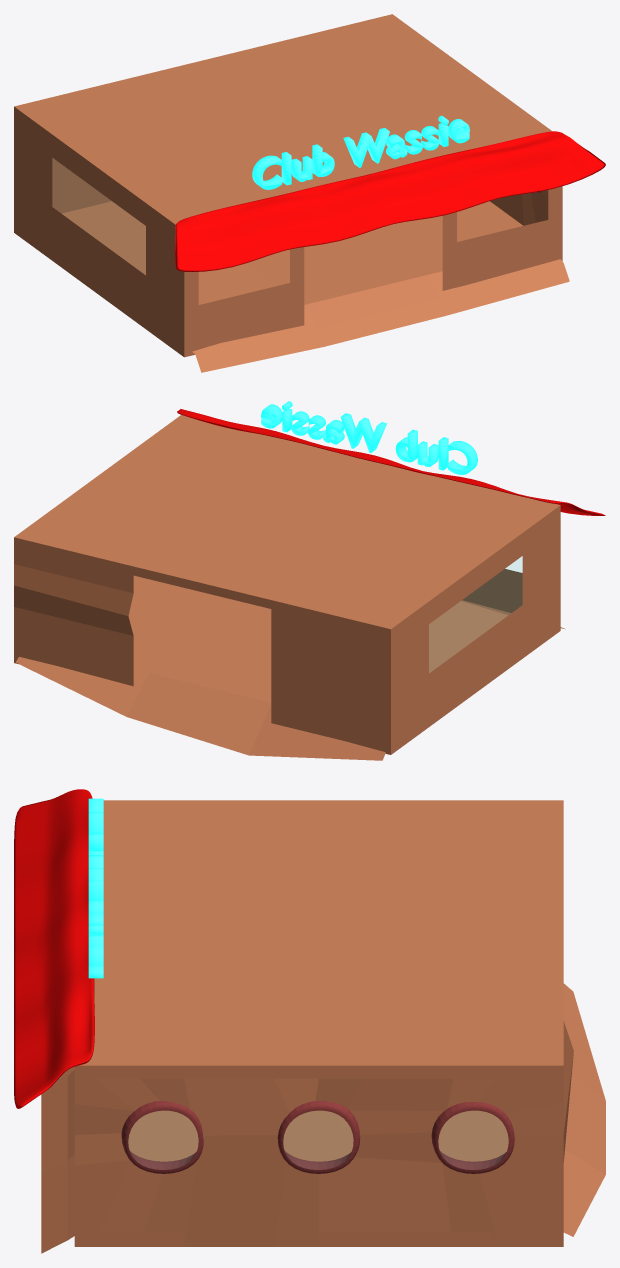
The model's file is house.glb.
3 renders of one model, top to bottom at view 1: azimuth 30°, elevation 25°; view 2: azimuth 150°, elevation 25°; view 3: azimuth 270°, elevation 25°, orthographic. The views are drawn at different scales.
Parts seen in each view (by area): view 1: Cube, Plane.002, Plane.001, Text; view 2: Cube, Plane.002, Text, Plane.001; view 3: Cube, Plane.001, Plane.002, Cube.001, Cube.003, Cube.002, Text.
Part boxes in pixels (<box>): Cube: <box>14,14,562,357</box>; Plane.002: <box>62,201,569,372</box>; Plane.001: <box>175,131,605,271</box>; Text: <box>252,115,469,189</box>; Cube: <box>14,415,560,754</box>; Plane.002: <box>15,575,565,760</box>; Text: <box>261,401,477,474</box>; Plane.001: <box>177,409,605,515</box>; Cube: <box>74,800,573,1246</box>; Plane.001: <box>14,789,94,1108</box>; Plane.002: <box>41,983,605,1253</box>; Cube.001: <box>277,1101,360,1173</box>; Cube.003: <box>431,1102,514,1173</box>; Cube.002: <box>121,1101,203,1173</box>; Text: <box>88,798,103,978</box>.
Bounding box in the file's own units: 11.32 × 4.83 × 9.41.
